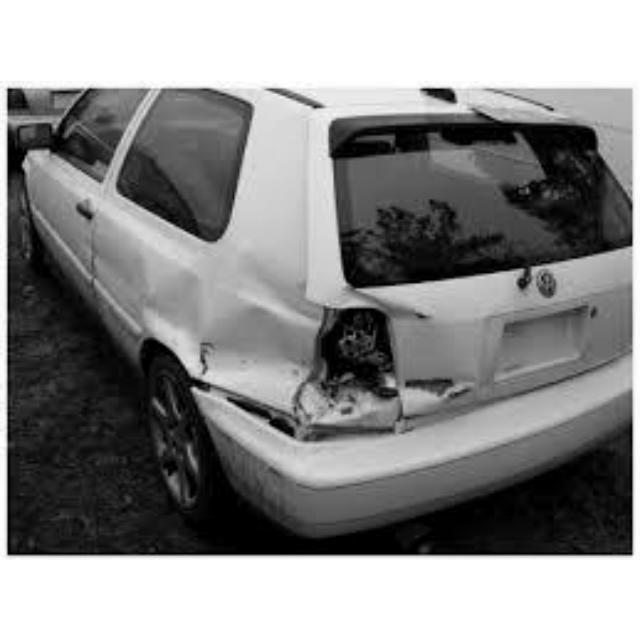Headlight-damage: (290, 288, 420, 443)
quaterpanel-dent: (146, 248, 294, 416)
